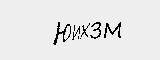З: (88, 19, 102, 41)
И: (70, 23, 81, 44)
М: (103, 17, 122, 43)
Х: (78, 20, 90, 41)
Ю: (51, 20, 72, 46)
